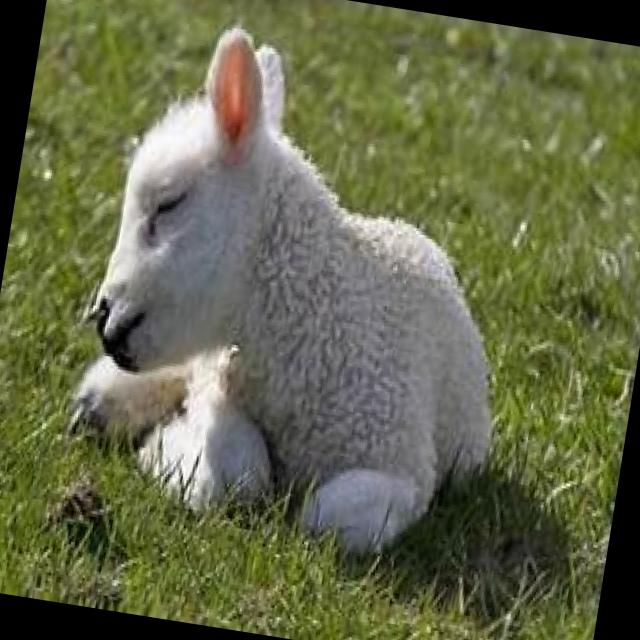animal: (57, 9, 550, 570)
